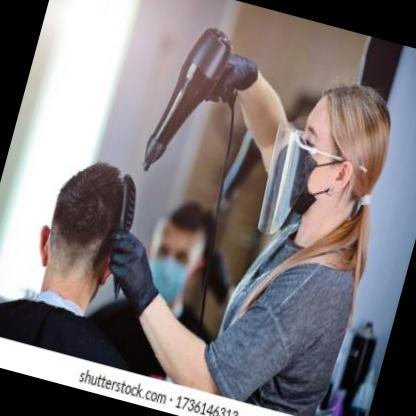Gloves: (95, 226, 172, 324), (200, 46, 262, 112)
